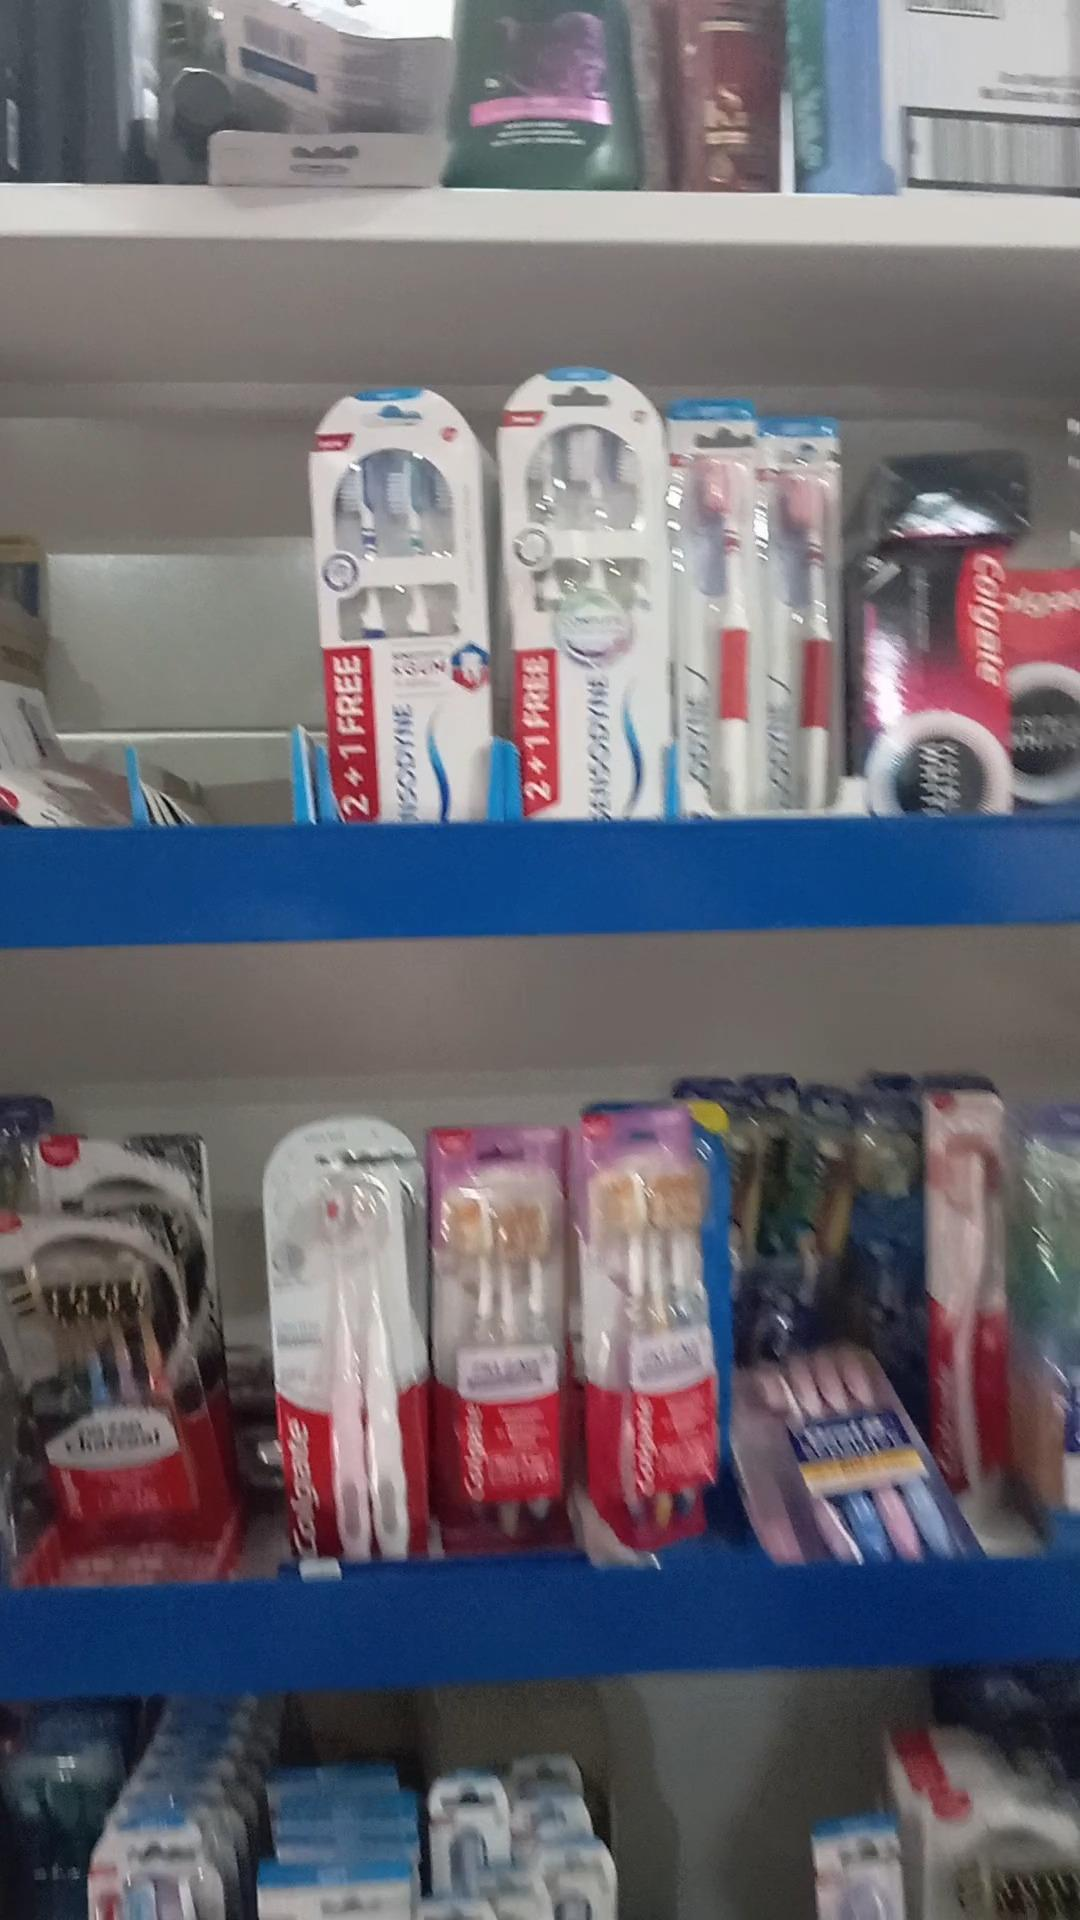10: (752, 1352, 957, 1561)
16: (318, 384, 483, 824)
4: (504, 364, 667, 818)
liquid soap: (0, 1213, 202, 1540)
